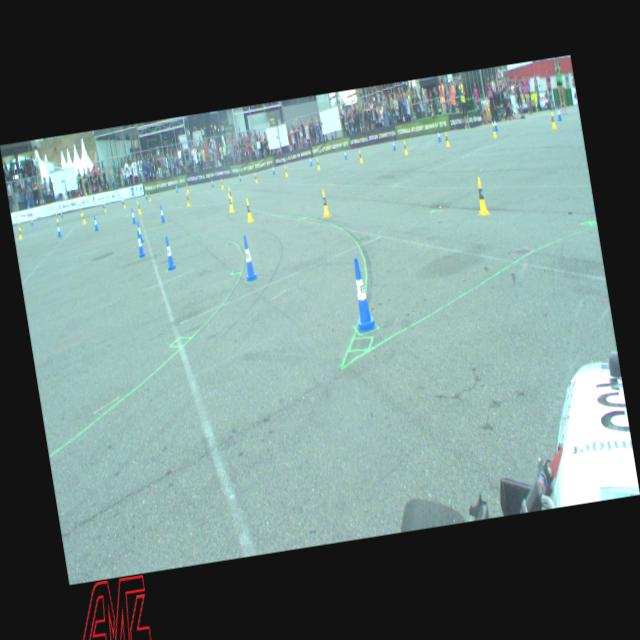blue_cone: (347, 256, 378, 332), (240, 235, 258, 281), (163, 236, 176, 270), (136, 230, 146, 256), (137, 221, 144, 242), (158, 205, 166, 223), (130, 208, 136, 224), (556, 106, 562, 121), (93, 216, 98, 231), (56, 223, 61, 237), (493, 118, 498, 130), (437, 129, 441, 142), (392, 139, 396, 151), (308, 155, 312, 166), (238, 172, 242, 181), (344, 150, 347, 160), (60, 210, 64, 217), (31, 217, 34, 226), (211, 178, 214, 187), (145, 192, 148, 200), (121, 197, 124, 205), (272, 166, 275, 174), (102, 201, 105, 208), (176, 184, 178, 192)
yellow_cone: (474, 176, 489, 215), (320, 188, 330, 217), (244, 198, 253, 222), (227, 194, 234, 212), (550, 111, 556, 129), (491, 122, 497, 138), (228, 186, 234, 202), (136, 201, 142, 214), (403, 141, 408, 155), (445, 132, 450, 146), (186, 192, 190, 206), (358, 150, 362, 162), (316, 158, 320, 170), (254, 172, 258, 184), (18, 228, 22, 240), (284, 166, 288, 177), (82, 212, 85, 224), (221, 179, 224, 189), (186, 183, 189, 193), (123, 199, 126, 208), (148, 192, 151, 201), (56, 214, 59, 222), (80, 208, 83, 216), (104, 204, 107, 212), (18, 222, 21, 230)
